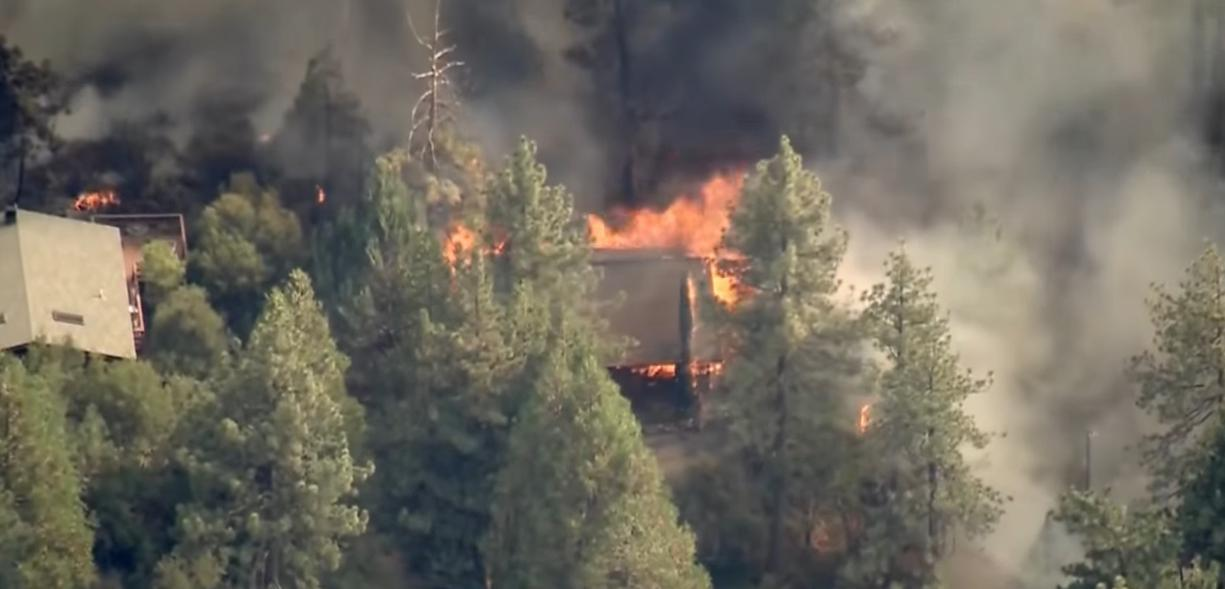Fire: (552, 162, 789, 394), (442, 220, 480, 281)
